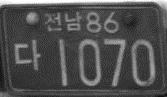0: (130, 38, 157, 88), (77, 38, 102, 88)
1: (57, 37, 69, 87)
6: (104, 11, 119, 33)
7: (100, 38, 127, 88)
8: (85, 10, 102, 34)
다: (13, 38, 41, 72)
전남_O: (42, 11, 83, 33)
